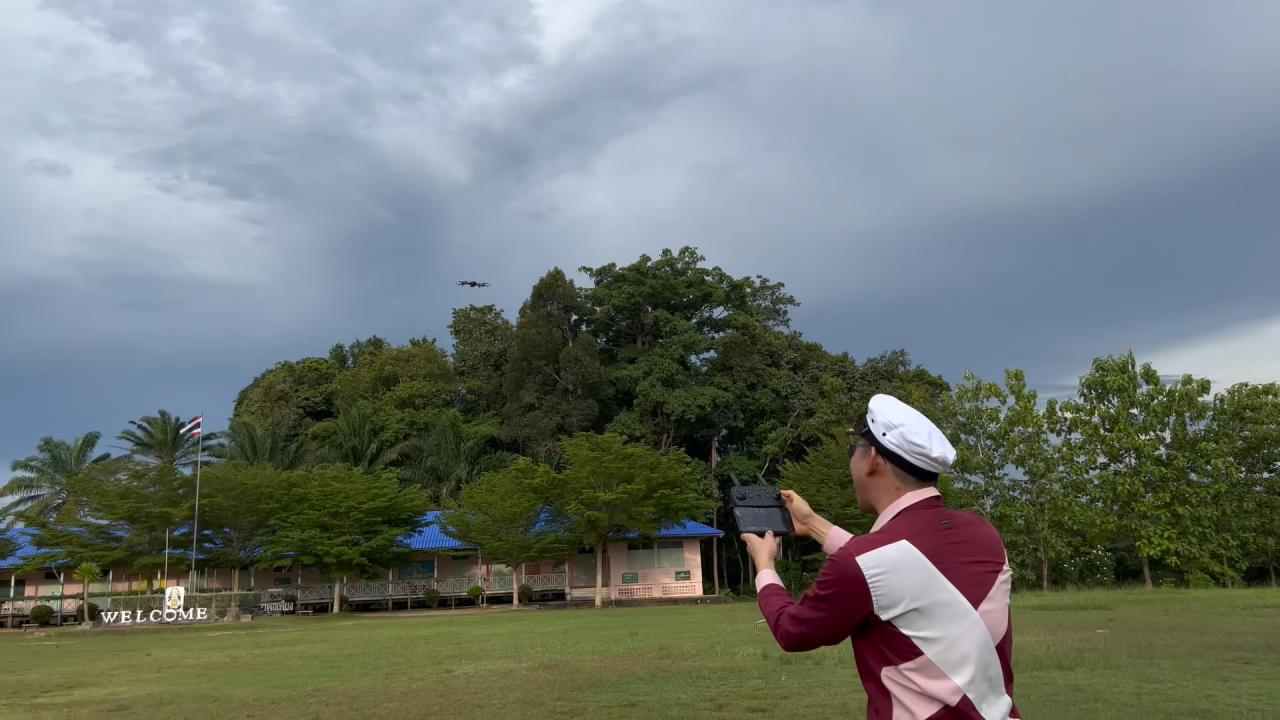Drone: (449, 267, 496, 298)
